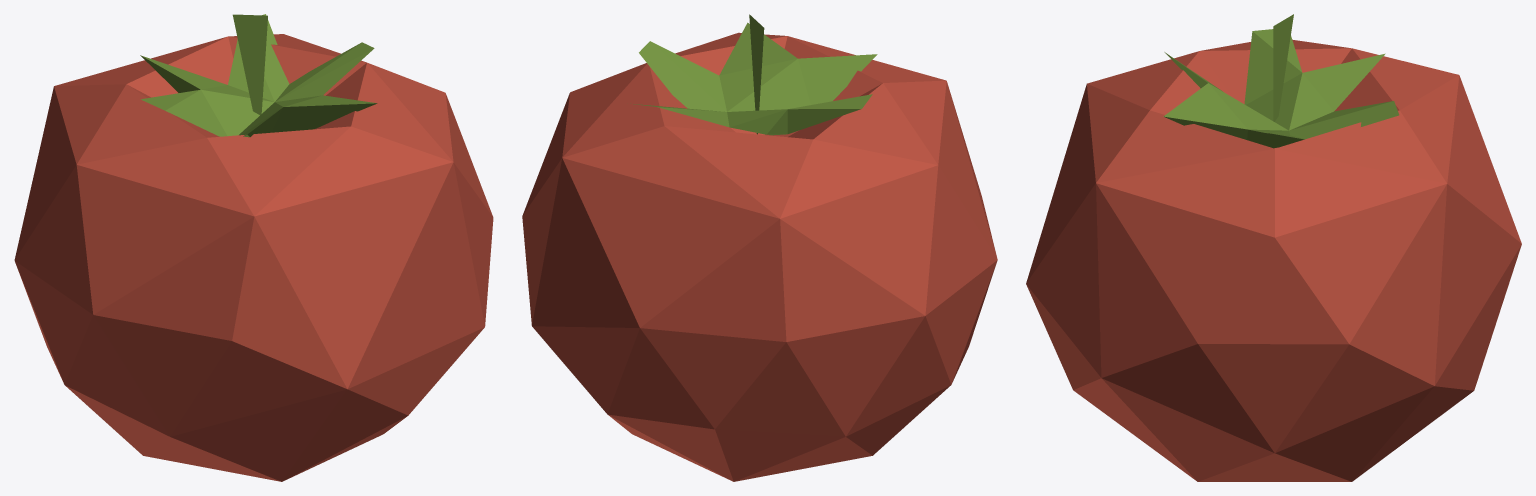
The model's file is Food_02.fbx.
The picture shows the model from 3 angles, left to right: view 1: azimuth 30°, elevation 25°; view 2: azimuth 150°, elevation 25°; view 3: azimuth 270°, elevation 25°; orthographic projection.
Parts seen in each view (by area): view 1: Food_02; view 2: Food_02; view 3: Food_02.
Boxes of the visible parts, left/top/right/bottom form: Food_02: left=14, top=14, right=493, bottom=481; Food_02: left=522, top=14, right=997, bottom=481; Food_02: left=1026, top=14, right=1521, bottom=481.
Size of the model in its own units: 11.3 by 11.86 by 11.83.
